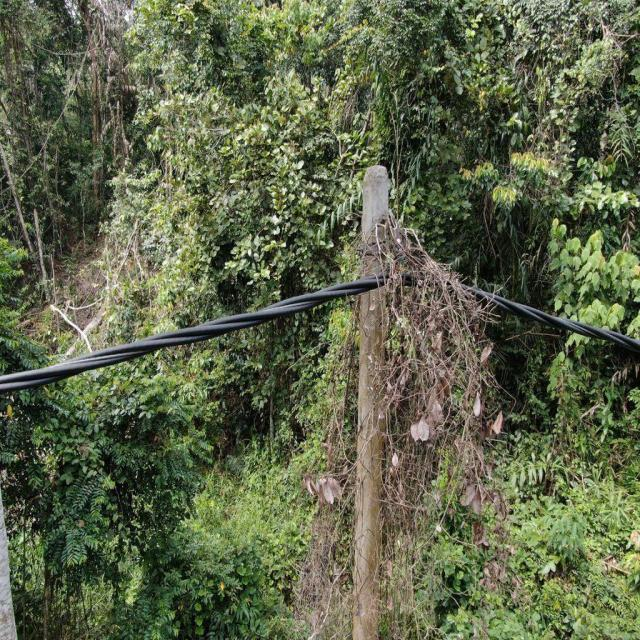critical vegetation: (286, 203, 512, 637)
